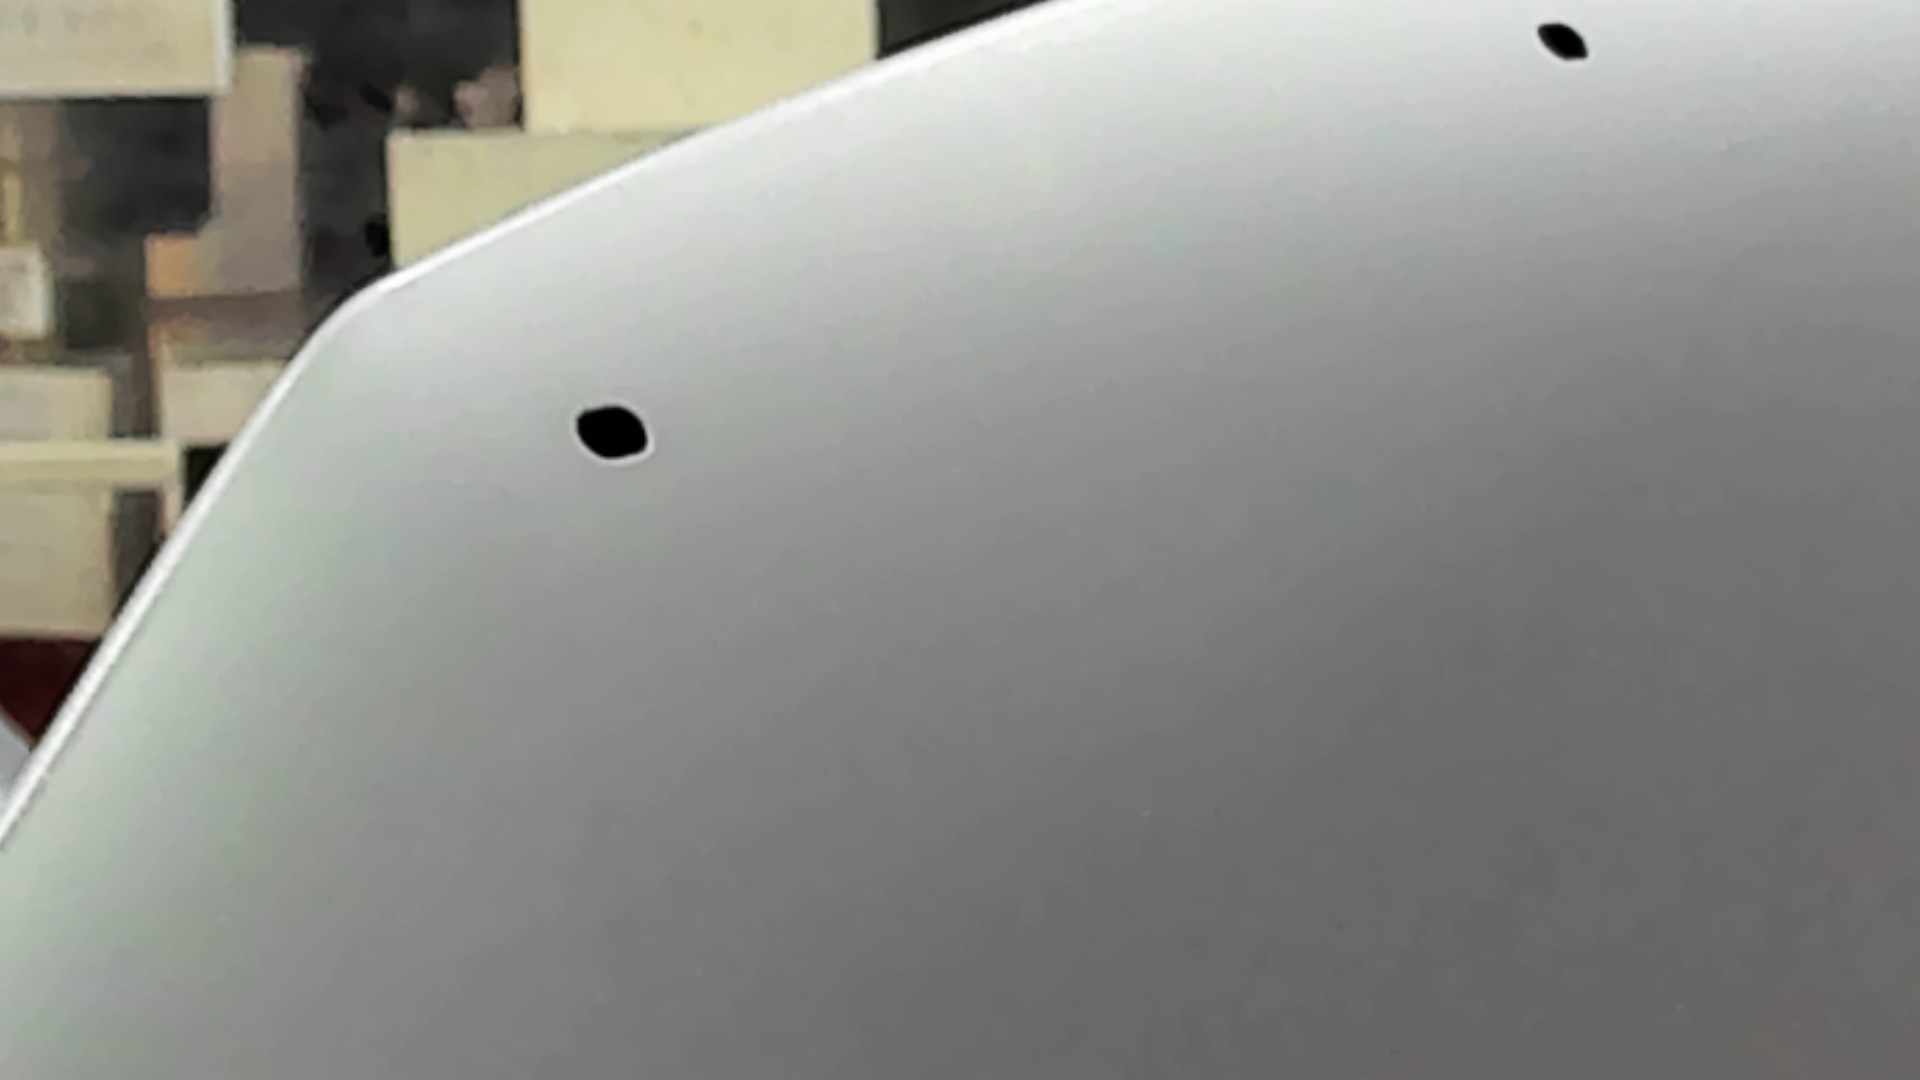amorfo: (570, 400, 659, 462), (1530, 18, 1598, 65)
